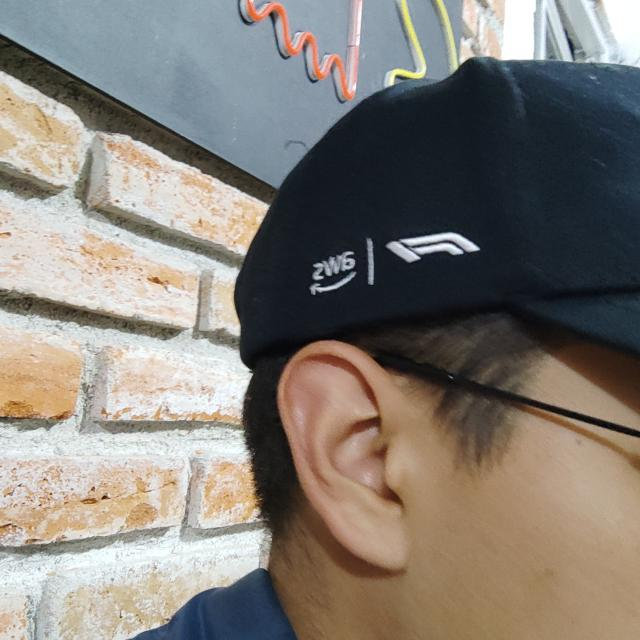ear: (278, 341, 408, 571)
